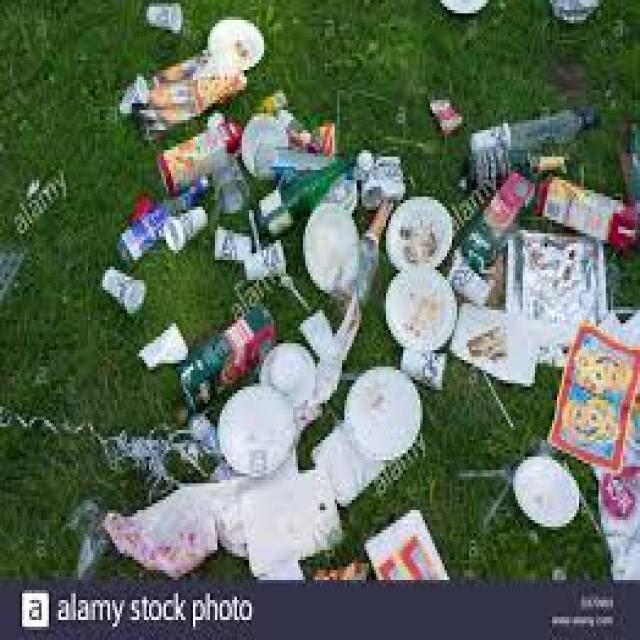garbage: (67, 0, 640, 573)
